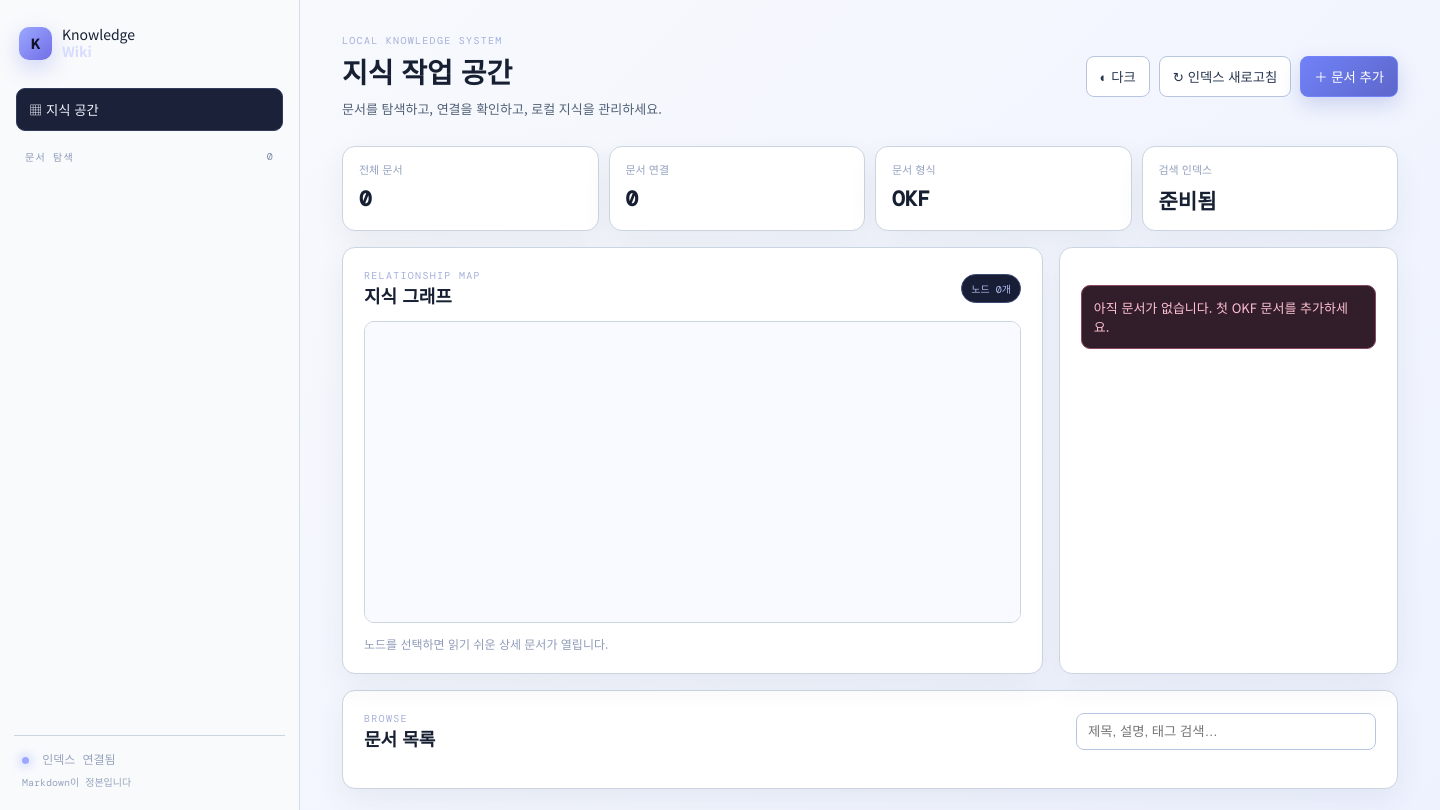
Test case: opens the manual OKF ingestion form
The image size is (1440, 810).
Click the button "＋ 문서 추가" at (1349, 76), box x1=1300 y1=56 x2=1398 y2=96
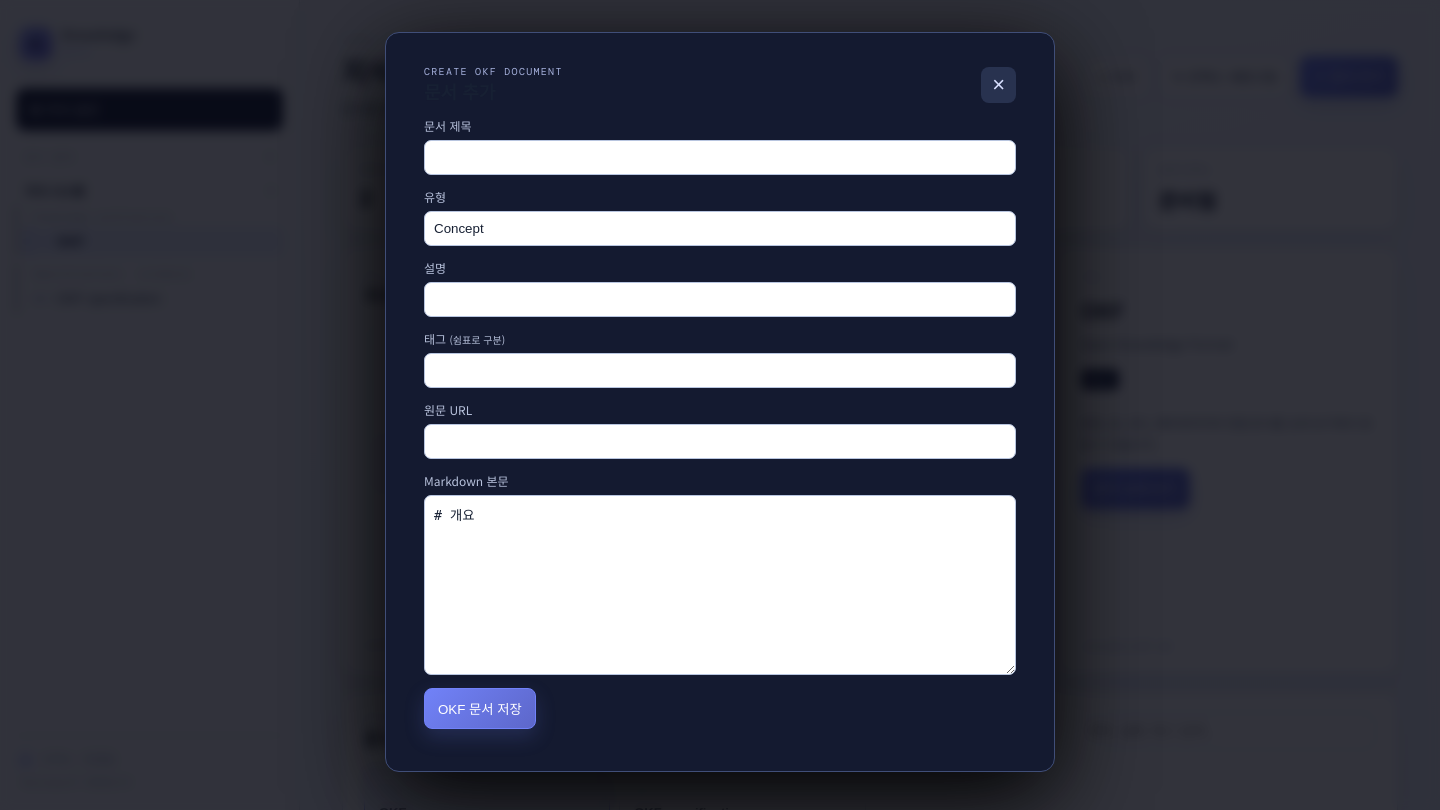
Now the field labelled "문서 제목" is shown, box x1=424 y1=140 x2=1016 y2=175
Now the text box labelled "Markdown 본문" is shown, box x1=424 y1=495 x2=1016 y2=675
